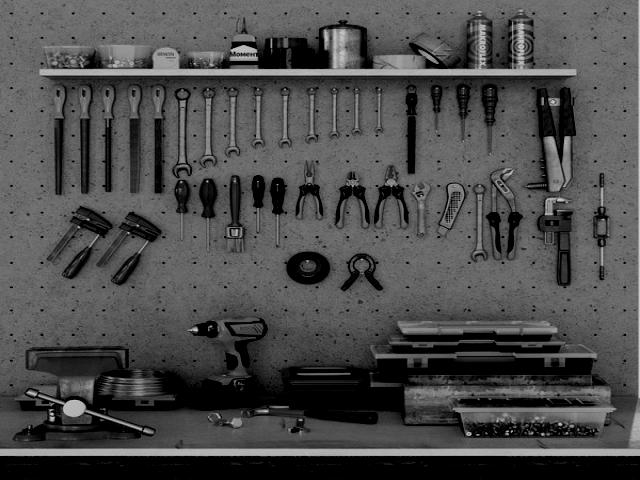Adjustable spanner: (411, 182, 430, 238)
Cutting pliers: (335, 172, 369, 229)
Drill: (189, 317, 268, 409)
Gas wrench: (486, 168, 522, 260)
Hammer: (241, 406, 376, 423)
Needle-nose pliers: (296, 160, 322, 219)
Pliers: (375, 165, 409, 229)
Screwdriver: (200, 179, 216, 252), (482, 84, 498, 154), (270, 178, 285, 246), (175, 180, 189, 240), (251, 175, 265, 233), (456, 85, 470, 143), (431, 85, 441, 133)
Utility knife: (438, 183, 465, 236)
Wrench: (172, 88, 192, 178), (471, 184, 488, 262), (200, 88, 216, 167), (225, 87, 240, 158), (251, 87, 265, 148), (279, 87, 291, 148), (305, 87, 318, 142), (329, 88, 340, 139), (351, 88, 361, 135), (375, 87, 383, 133)
